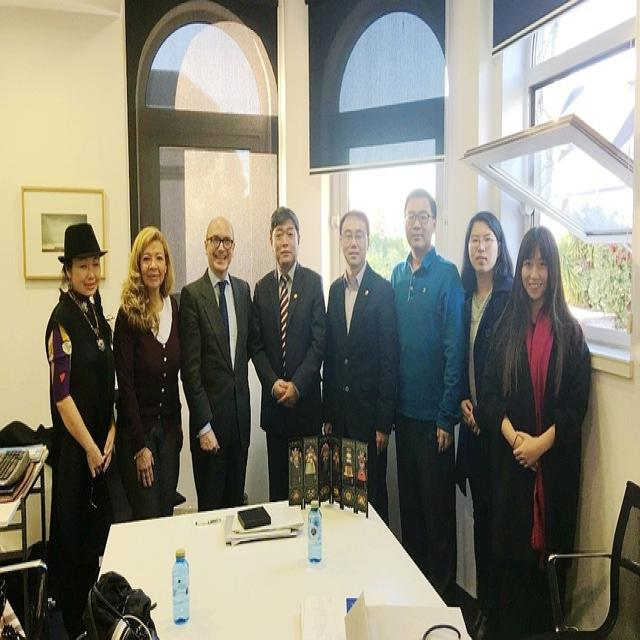body: (475, 222, 593, 638), (388, 186, 468, 607), (41, 214, 120, 638), (320, 208, 402, 534), (452, 210, 514, 640), (176, 214, 258, 514), (249, 204, 328, 505), (109, 222, 185, 522)
